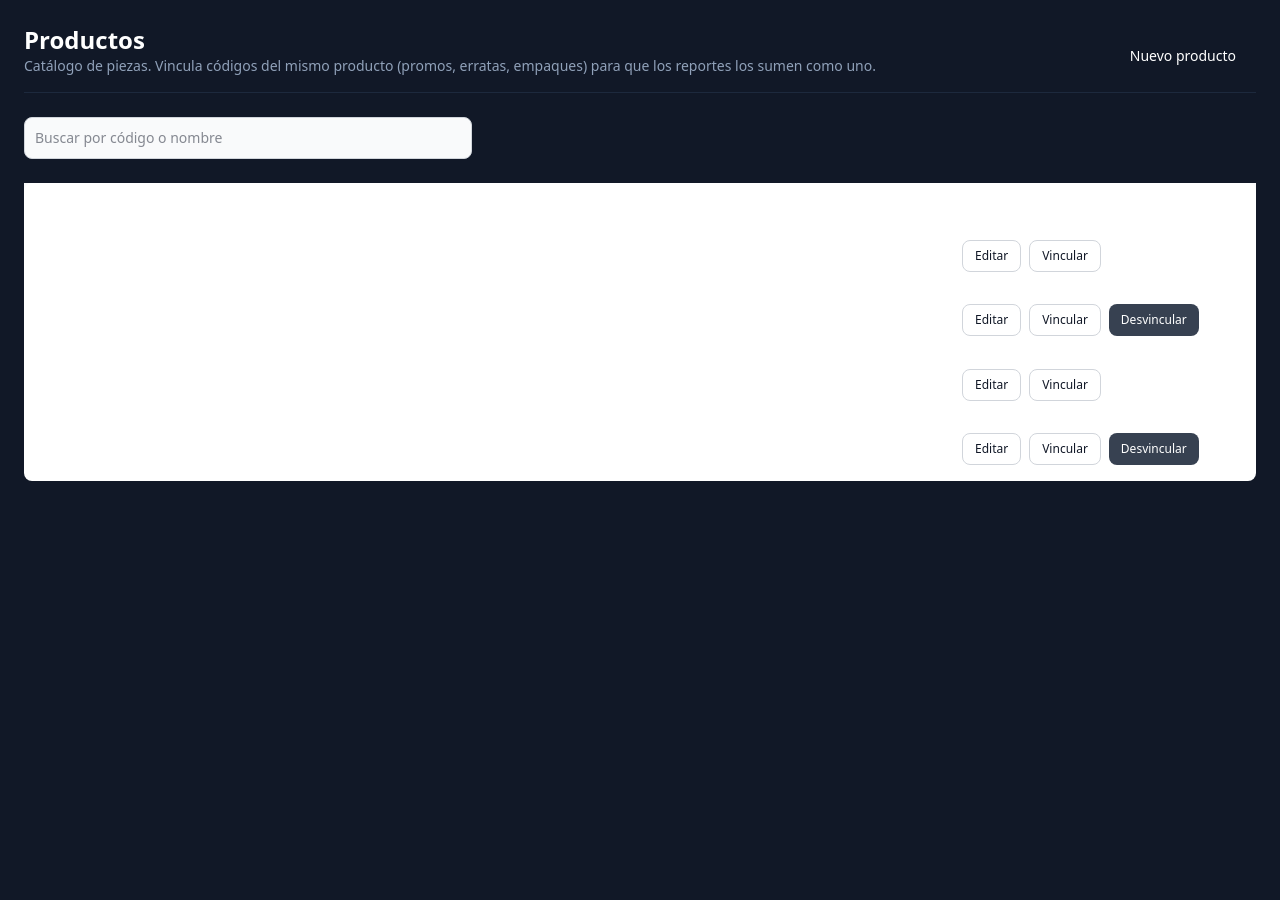
it: ProductsPage › shows how many codes a link target already has
This screenshot has width=1280, height=900.
Click the 1st button "Vincular": (1065, 256) [1029,240,1101,272]
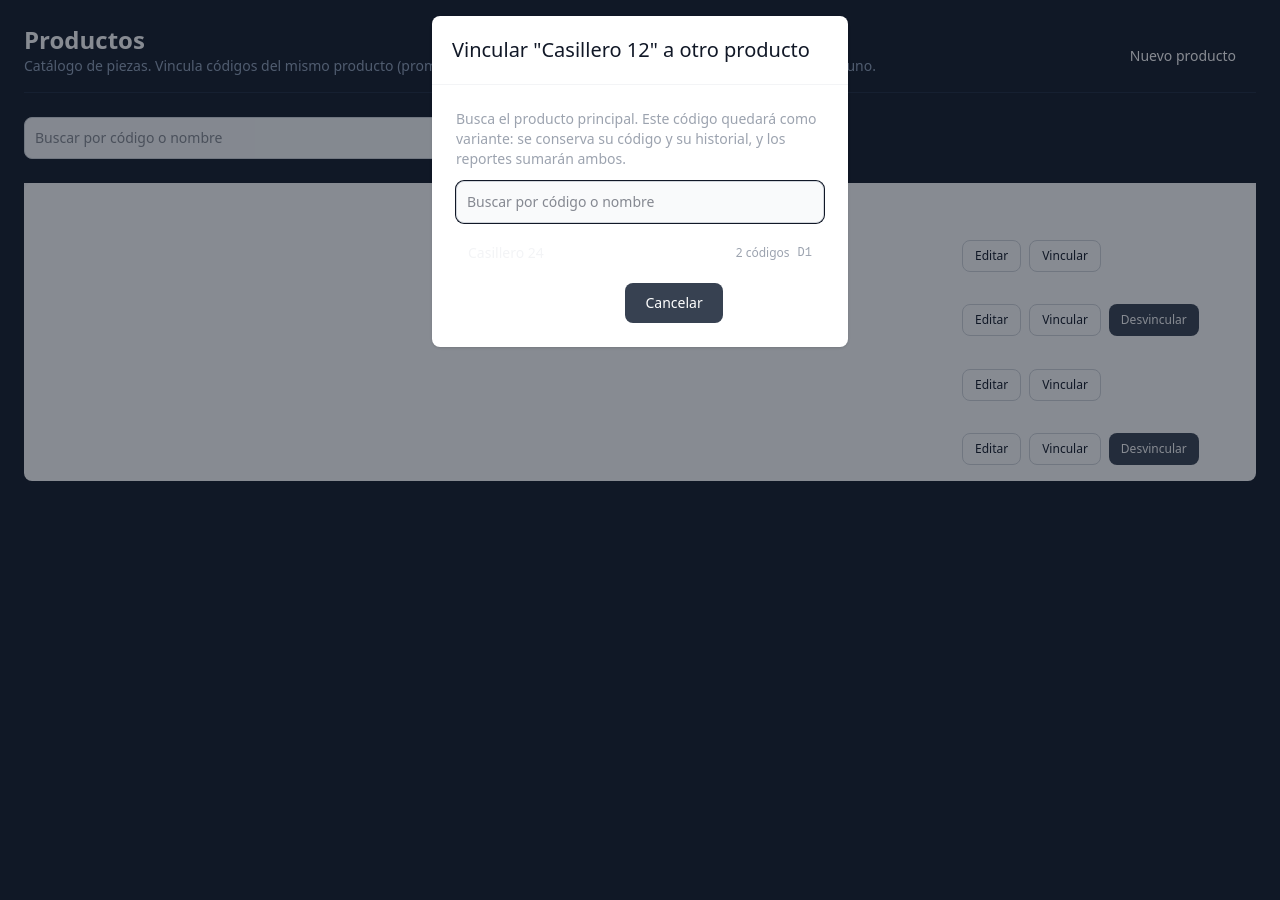
Expected: the text "2 códigos" is shown, [736,245,790,261]
